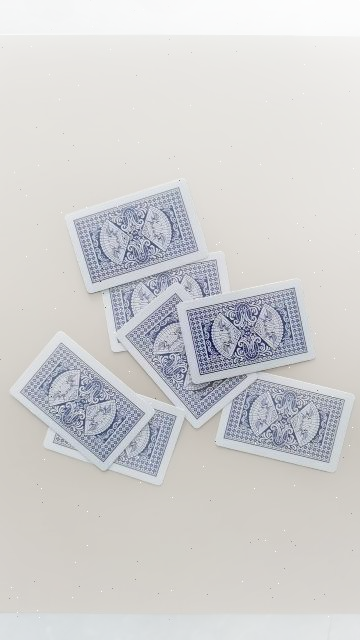card: (10, 331, 154, 470), (118, 284, 256, 426), (65, 179, 209, 293), (178, 279, 315, 384), (215, 372, 354, 472), (101, 251, 230, 352), (110, 396, 185, 485), (44, 429, 90, 463)
